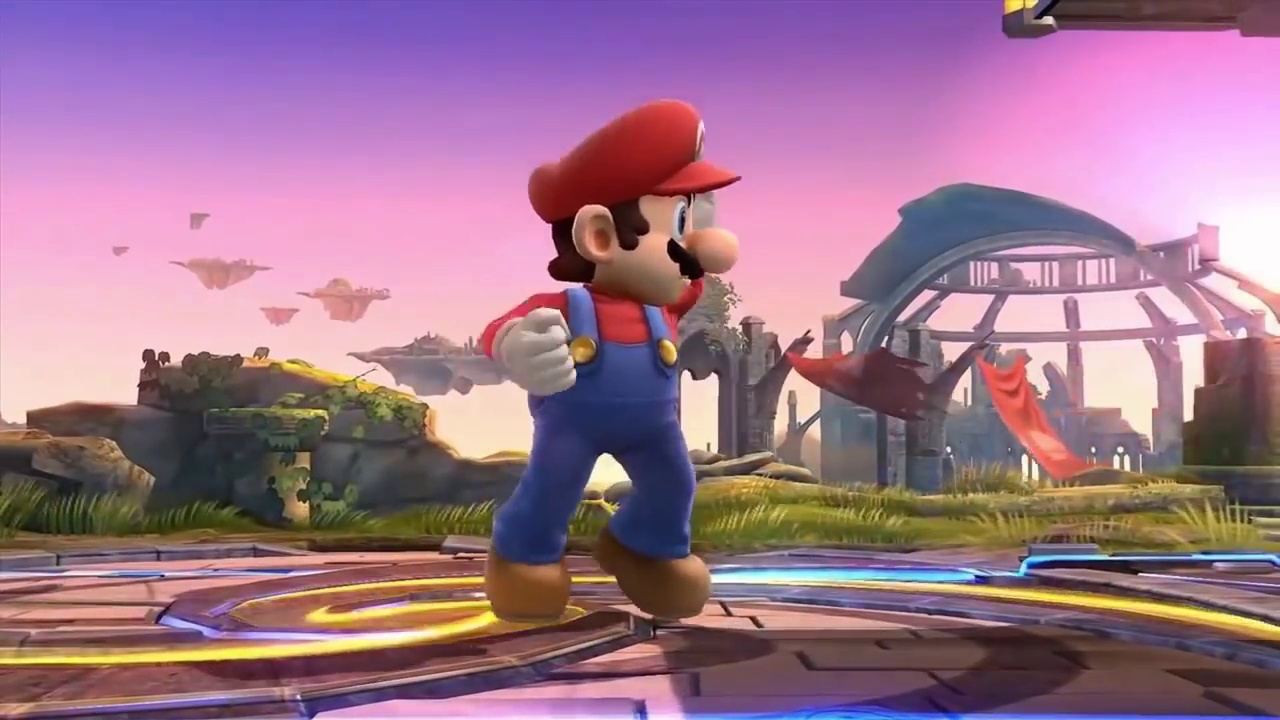Mario: (483, 99, 744, 620)
